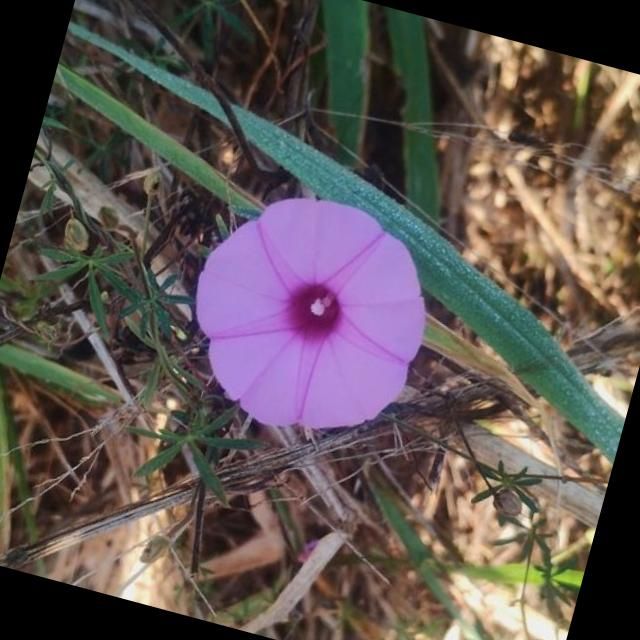ipomoea: (160, 167, 456, 463)
